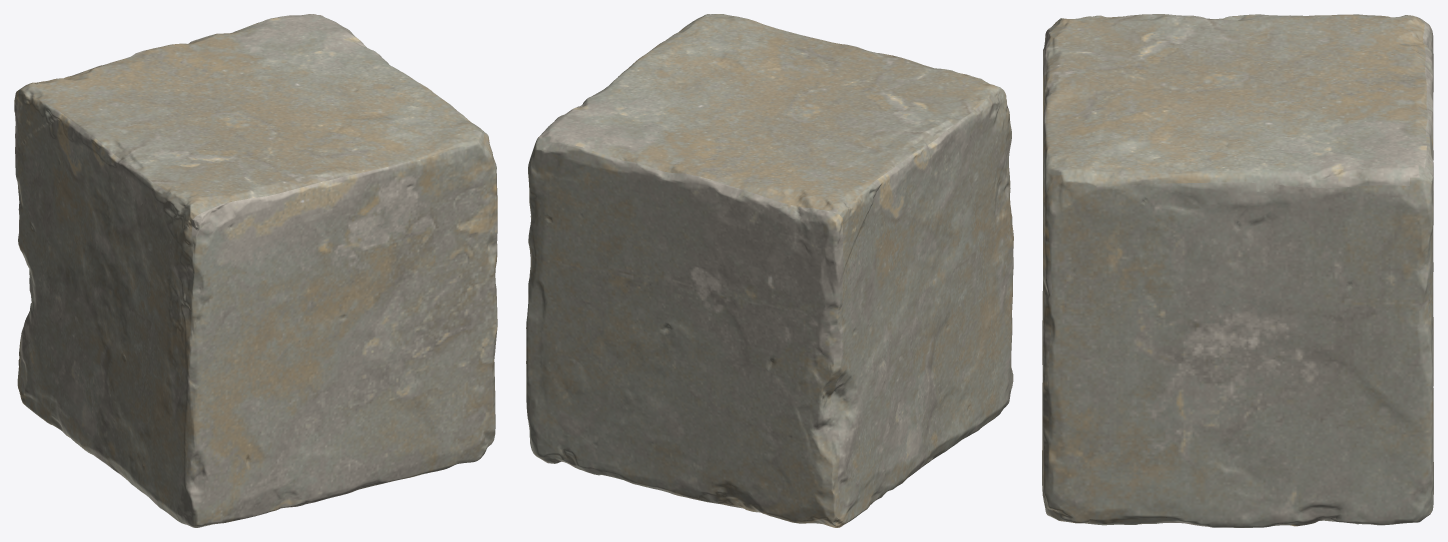
The model's file is SM_StoneBlock_LRG_01.fbx.
3 views of the same model, side by side, from view 1: azimuth 30°, elevation 25°; view 2: azimuth 150°, elevation 25°; view 3: azimuth 270°, elevation 25° (orthographic). The views are drawn at different scales.
Visible parts, largest first — view 1: SM_StoneBlock_LRG_01_LOD0; view 2: SM_StoneBlock_LRG_01_LOD0; view 3: SM_StoneBlock_LRG_01_LOD0.
Boxes of the visible parts, x1,y1,x2,y2 form: SM_StoneBlock_LRG_01_LOD0: [14, 14, 497, 527]; SM_StoneBlock_LRG_01_LOD0: [526, 14, 1013, 527]; SM_StoneBlock_LRG_01_LOD0: [1042, 14, 1433, 527].
Size of the model in its own units: 32.2 by 32.01 by 32.11.
Materials: 1 (1 with a texture image).
